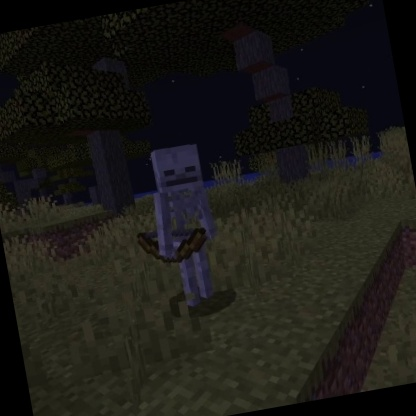skeleton: (120, 137, 234, 318)
